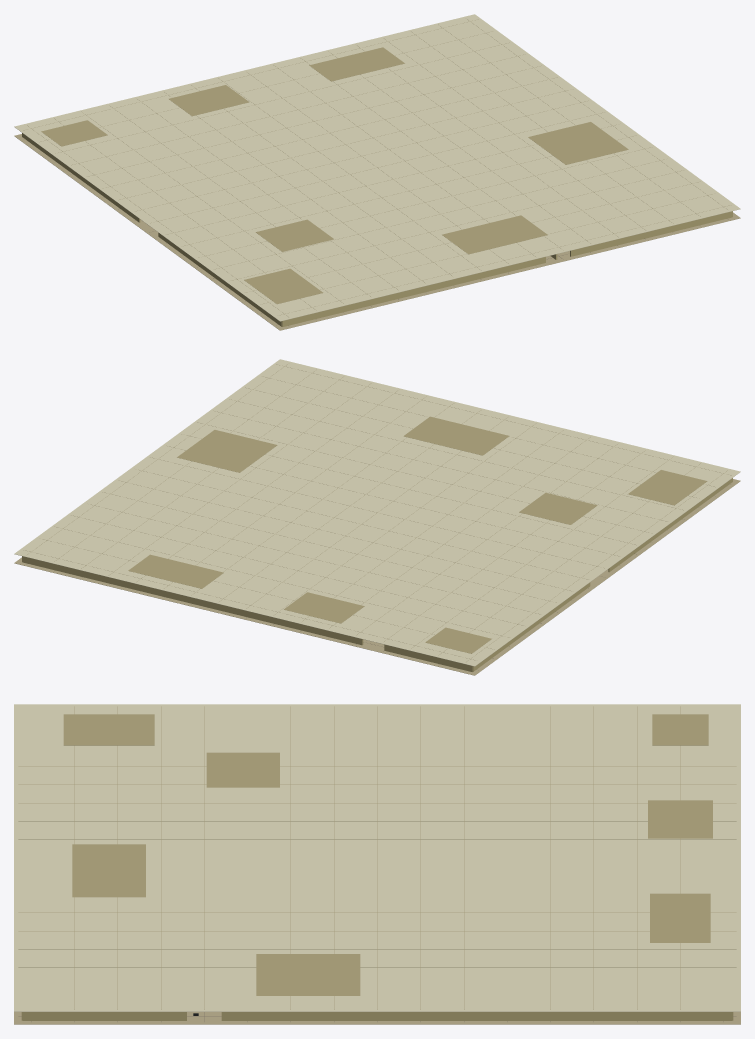
Rendered from level_03_fora_do_mapa_backrooms.glb.
The picture shows the model from 3 angles, top to bottom: view 1: azimuth 30°, elevation 25°; view 2: azimuth 150°, elevation 25°; view 3: azimuth 270°, elevation 25°; orthographic projection. The views are drawn at different scales.
Visible parts, largest first — view 1: low_drop_ceiling_plane, huge_damp_carpet_floor_level0, open_room_4_ceiling_dark_patch, open_room_6_ceiling_dark_patch, outer_south_seg_0_a, open_room_3_ceiling_dark_patch, open_room_1_ceiling_dark_patch, open_room_5_ceiling_dark_patch, open_room_2_ceiling_dark_patch, outer_south_seg_end, open_room_0_ceiling_dark_patch, outer_west_seg_end (+1 smaller); view 2: low_drop_ceiling_plane, huge_damp_carpet_floor_level0, open_room_4_ceiling_dark_patch, outer_north_seg_end, open_room_6_ceiling_dark_patch, open_room_3_ceiling_dark_patch, open_room_1_ceiling_dark_patch, open_room_5_ceiling_dark_patch, open_room_2_ceiling_dark_patch, open_room_0_ceiling_dark_patch, outer_north_seg_0_a, outer_west_seg_end (+1 smaller); view 3: low_drop_ceiling_plane, outer_east_seg_0_a, open_room_4_ceiling_dark_patch, open_room_6_ceiling_dark_patch, huge_damp_carpet_floor_level0, open_room_3_ceiling_dark_patch, open_room_1_ceiling_dark_patch, open_room_5_ceiling_dark_patch, open_room_2_ceiling_dark_patch, open_room_0_ceiling_dark_patch, outer_east_seg_end, ceiling_tile_strip_x_-1 (+8 smaller).
Boxes of the visible parts, x1,y1,x2,y2 form: low_drop_ceiling_plane: (14,14,740,321); huge_damp_carpet_floor_level0: (14,134,740,330); open_room_4_ceiling_dark_patch: (528,122,628,164); open_room_6_ceiling_dark_patch: (442,215,547,254); outer_south_seg_0_a: (282,257,545,326); open_room_3_ceiling_dark_patch: (309,47,404,81); open_room_1_ceiling_dark_patch: (244,268,323,304); open_room_5_ceiling_dark_patch: (255,219,333,251); open_room_2_ceiling_dark_patch: (169,85,249,116); outer_south_seg_end: (570,211,732,256); open_room_0_ceiling_dark_patch: (41,120,107,146); outer_west_seg_end: (158,233,282,326); low_drop_ceiling_plane: (14,359,740,666); huge_damp_carpet_floor_level0: (14,479,740,675); open_room_4_ceiling_dark_patch: (177,430,277,472); outer_north_seg_end: (22,556,363,645); open_room_6_ceiling_dark_patch: (403,416,509,455); open_room_3_ceiling_dark_patch: (128,554,223,588); open_room_1_ceiling_dark_patch: (628,470,707,505); open_room_5_ceiling_dark_patch: (519,492,597,524); open_room_2_ceiling_dark_patch: (284,592,364,623); open_room_0_ceiling_dark_patch: (425,627,491,653); outer_north_seg_0_a: (384,644,472,671); outer_west_seg_end: (608,478,732,572); low_drop_ceiling_plane: (14,704,740,1011); outer_east_seg_0_a: (221,1012,732,1020); open_room_4_ceiling_dark_patch: (256,954,360,995); open_room_6_ceiling_dark_patch: (72,844,145,897); huge_damp_carpet_floor_level0: (14,1012,740,1024); open_room_3_ceiling_dark_patch: (650,893,710,942); open_room_1_ceiling_dark_patch: (63,714,154,745); open_room_5_ceiling_dark_patch: (206,752,279,787); open_room_2_ceiling_dark_patch: (648,800,712,838); open_room_0_ceiling_dark_patch: (652,714,708,745); outer_east_seg_end: (22,1012,186,1020); ceiling_tile_strip_x_-1: (18,839,736,839).
Size of the model in its own units: 168 by 3.31 by 168.
